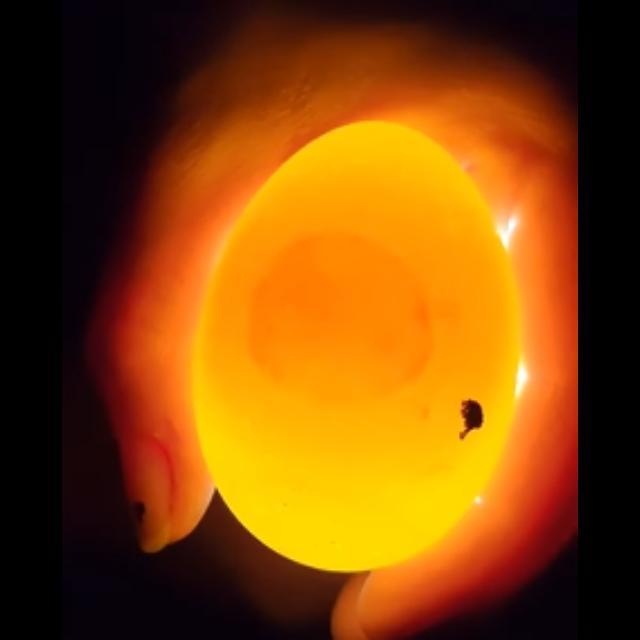Infertile: (185, 109, 529, 576)
